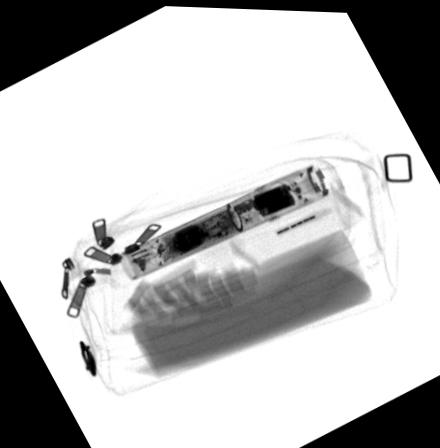Baton: (116, 159, 329, 280)
